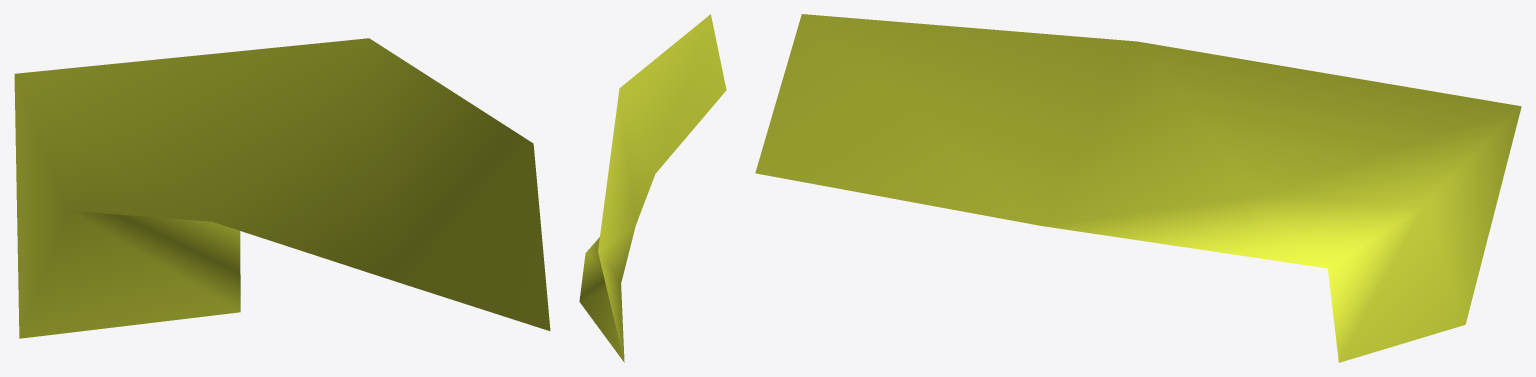
Rendered from b_polySurface743_b_BMW_i8Elite_2017CalliperGloss_Material1_0.glb.
The picture shows the model from 3 angles, left to right: view 1: azimuth 30°, elevation 25°; view 2: azimuth 150°, elevation 25°; view 3: azimuth 270°, elevation 25°; orthographic projection. The views are drawn at different scales.
Visible parts, largest first — view 1: b:polySurface743_b:BMW_i8Elite_2017CalliperGloss_Material1_0; view 2: b:polySurface743_b:BMW_i8Elite_2017CalliperGloss_Material1_0; view 3: b:polySurface743_b:BMW_i8Elite_2017CalliperGloss_Material1_0.
Boxes of the visible parts, x1,y1,x2,y2 form: b:polySurface743_b:BMW_i8Elite_2017CalliperGloss_Material1_0: (14, 38, 550, 338); b:polySurface743_b:BMW_i8Elite_2017CalliperGloss_Material1_0: (579, 14, 726, 362); b:polySurface743_b:BMW_i8Elite_2017CalliperGloss_Material1_0: (755, 14, 1521, 362).
Size of the model in its own units: 0.0169 by 0.0363 by 0.0644.
